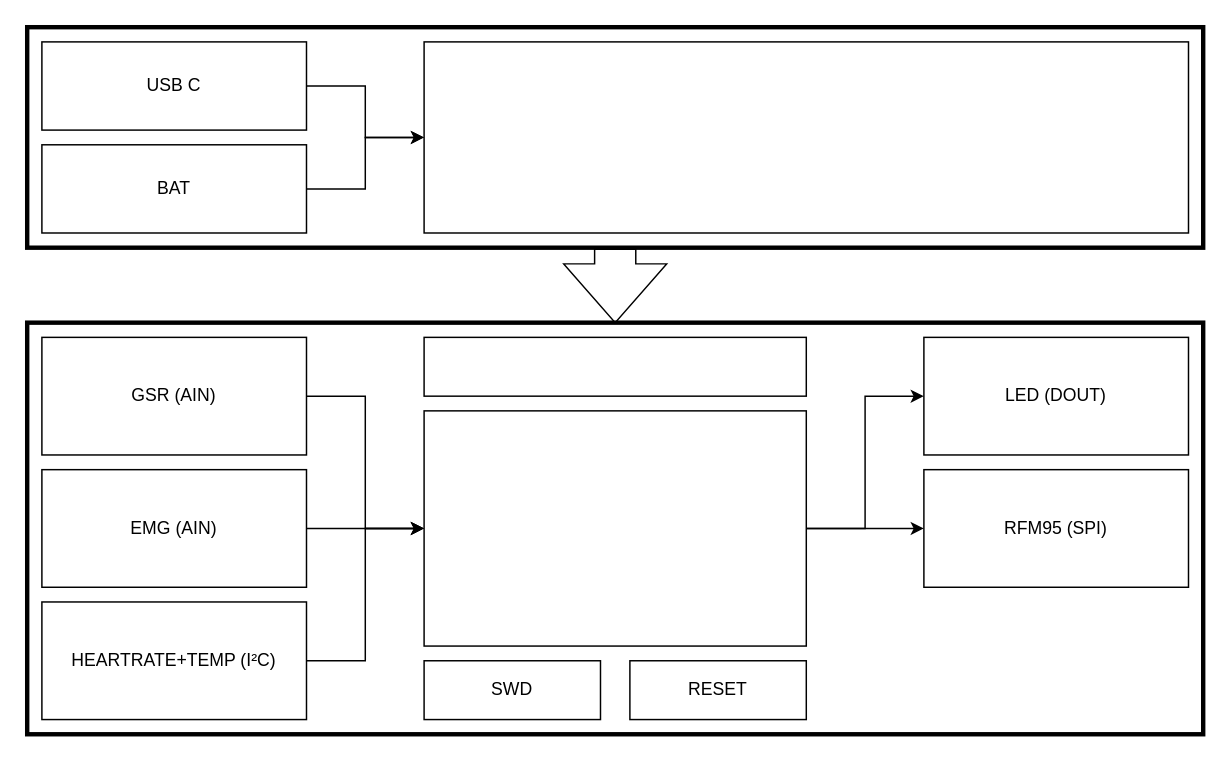
Image size: 1230x761. Some labels were removed from this diagram. The shapes that lost their labels are listed below. From the top down, each one's centre as x and y in pixels, then its label:
At [805,136]: "LDO & CHARGE AND PROTECTION CIRCUIT".
At [614,366]: "CRYSTAL".
At [614,527]: "ATSAMD21G18".
